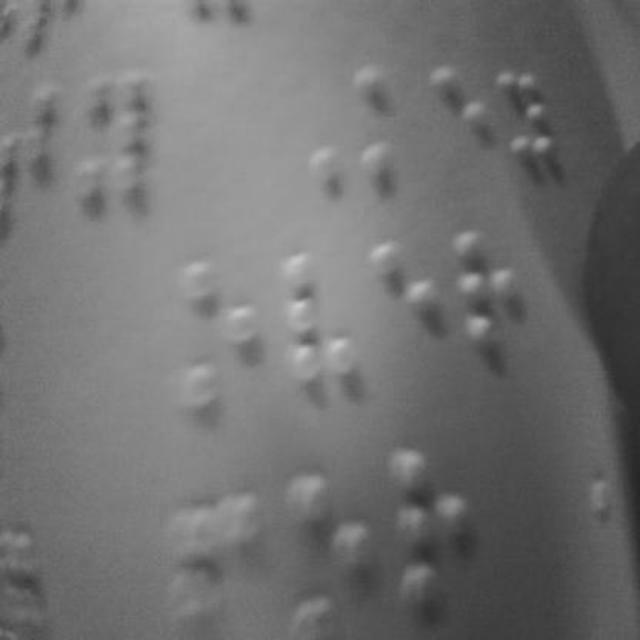braiile: (280, 456, 380, 640), (385, 442, 471, 616), (173, 250, 257, 410), (73, 58, 154, 205), (281, 244, 357, 388), (448, 219, 522, 365), (369, 230, 441, 378), (350, 58, 422, 192), (428, 55, 488, 178), (496, 63, 560, 169)
